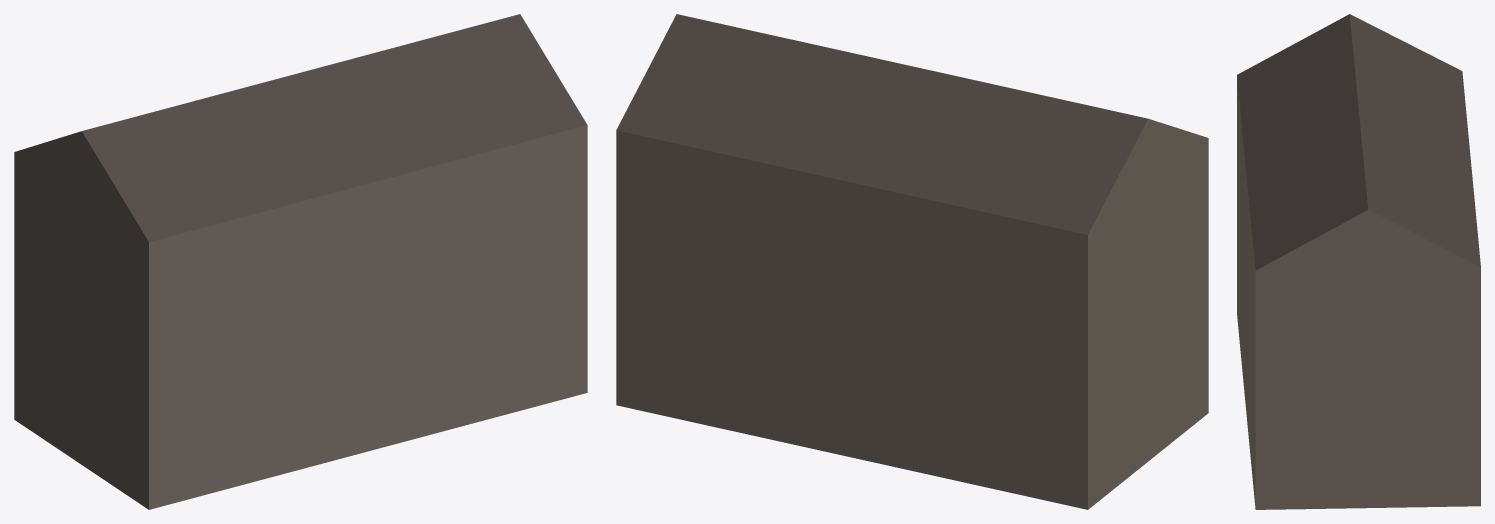
3 views of the same model, side by side, from view 1: azimuth 30°, elevation 25°; view 2: azimuth 150°, elevation 25°; view 3: azimuth 270°, elevation 25° (orthographic). The views are drawn at different scales.
Visible parts, largest first — view 1: HP-w1424106417; view 2: HP-w1424106417; view 3: HP-w1424106417.
Boxes of the visible parts, left/top/right/bottom form: HP-w1424106417: left=14, top=14, right=587, bottom=509; HP-w1424106417: left=616, top=14, right=1208, bottom=509; HP-w1424106417: left=1237, top=14, right=1480, bottom=509.
Size of the model in its own units: 10.73 by 7.48 by 5.54.
